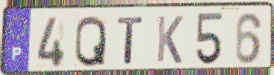4: (35, 15, 67, 70)
5: (195, 11, 225, 67)
6: (235, 11, 264, 66)
K: (155, 14, 185, 65)
Q: (73, 14, 108, 69)
T: (116, 15, 146, 66)
